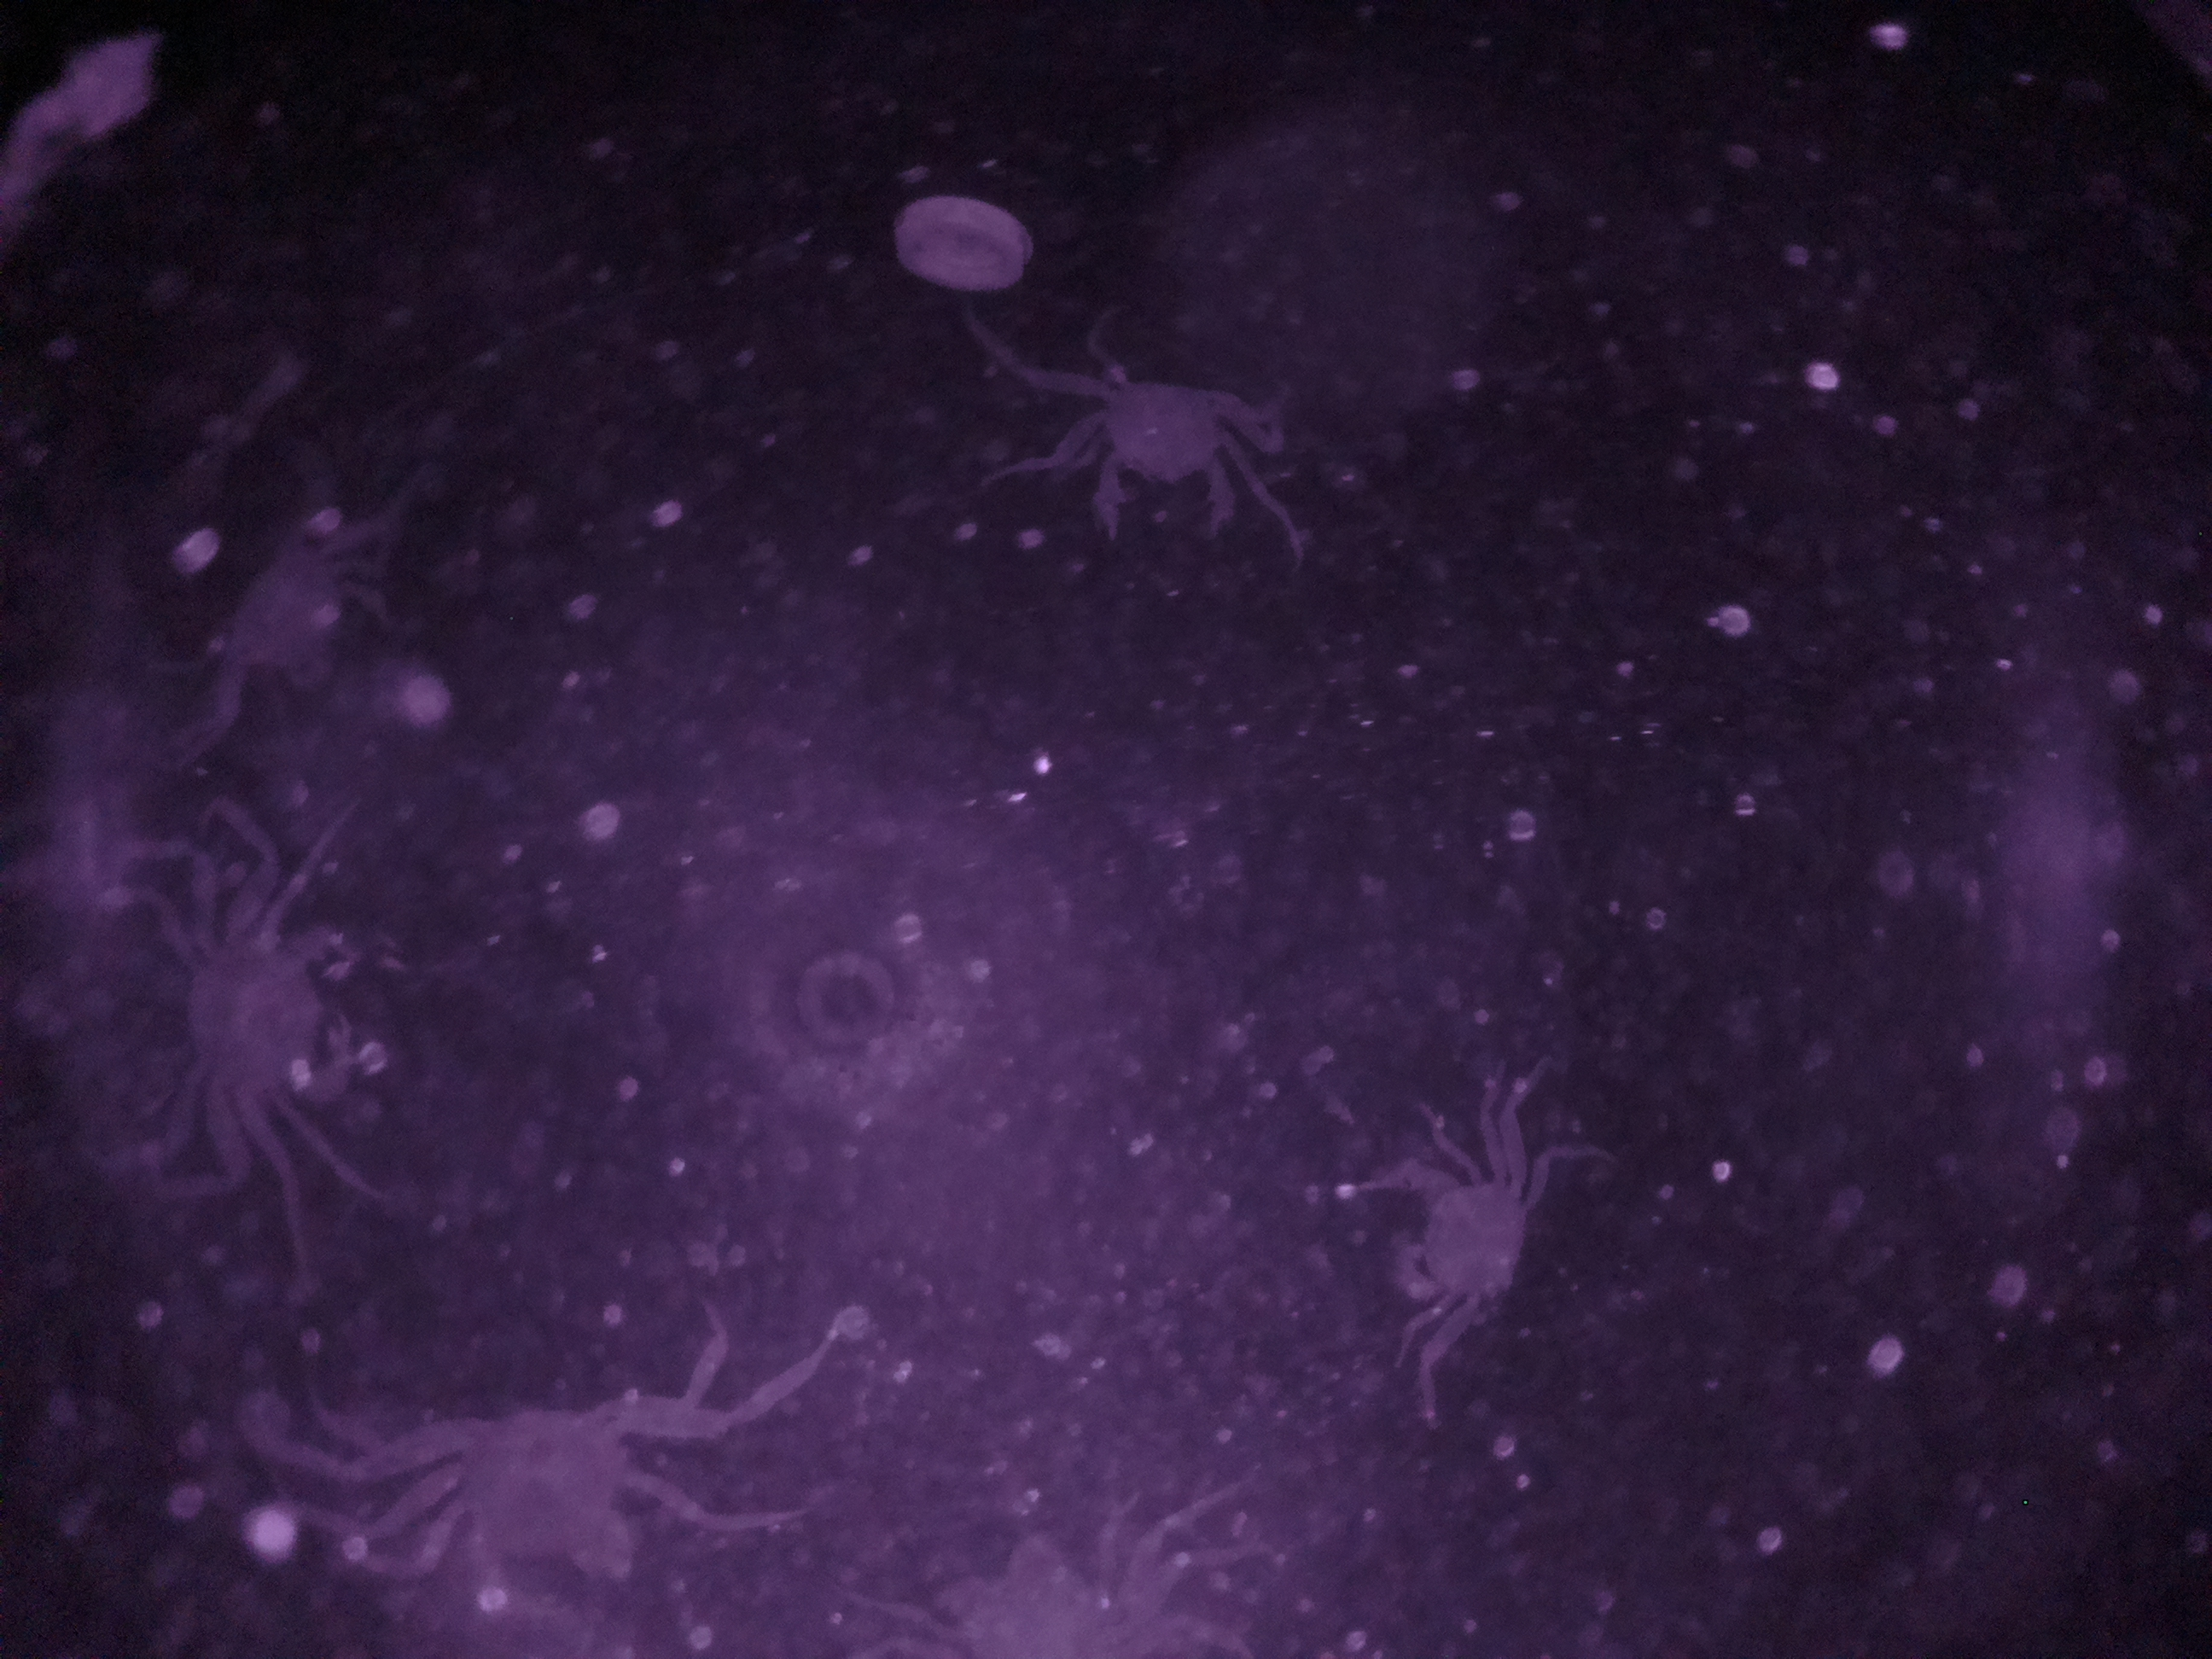Crab: (395, 1356, 698, 1610), (1296, 1126, 1545, 1342), (1042, 366, 1271, 572)
